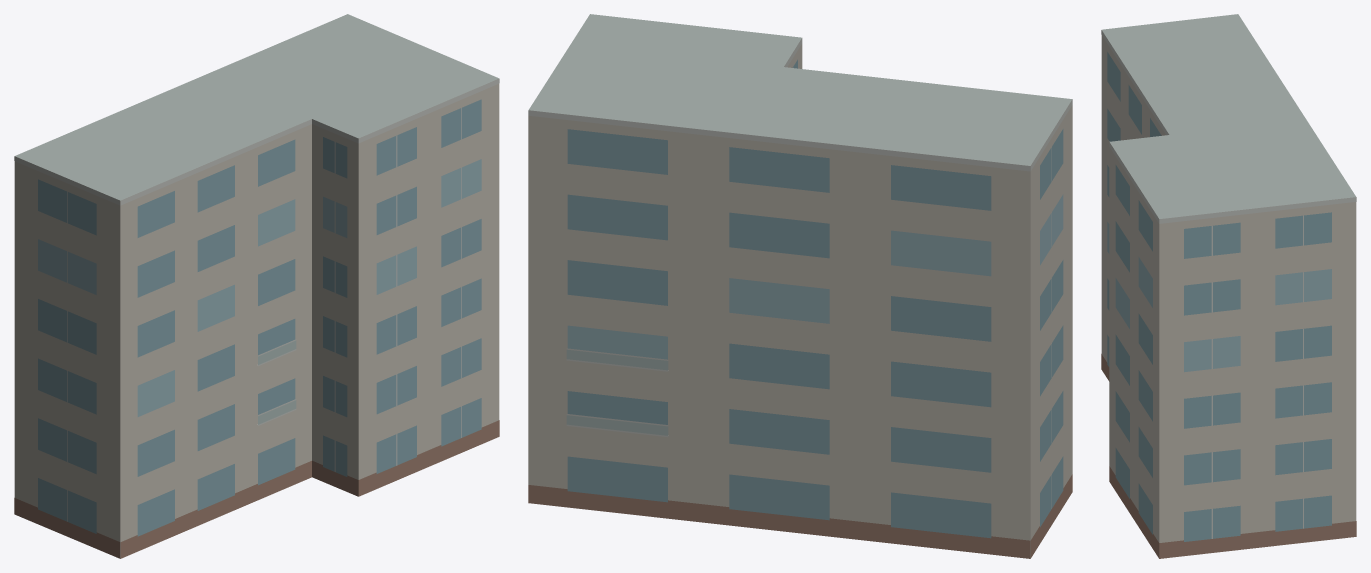
File: survey-upis-32664988.glb
3 renders of one model, left to right at view 1: azimuth 30°, elevation 25°; view 2: azimuth 150°, elevation 25°; view 3: azimuth 270°, elevation 25°, orthographic. The views are drawn at different scales.
Visible parts, largest first — view 1: survey-upis-32664988.tmp; view 2: survey-upis-32664988.tmp; view 3: survey-upis-32664988.tmp.
Boxes of the visible parts, x1=… form: survey-upis-32664988.tmp: x1=14, y1=14, x2=499, y2=558; survey-upis-32664988.tmp: x1=528, y1=14, x2=1072, y2=558; survey-upis-32664988.tmp: x1=1101, y1=14, x2=1356, y2=558.
Size of the model in its own units: 22.54 by 17.4 by 11.85.
